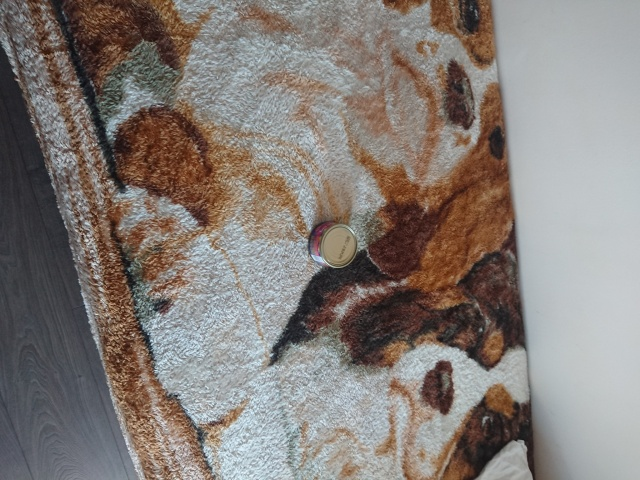Giana Tuna Salad Mexico 185g: (305, 219, 360, 270)
